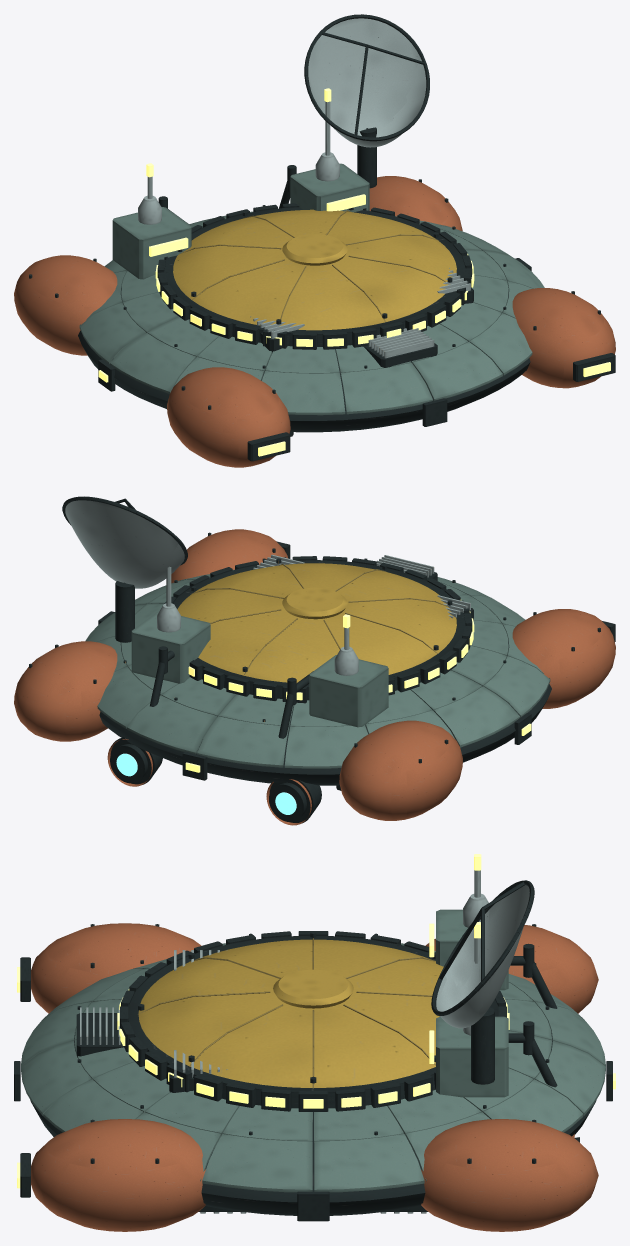
3 views of the same model, one above another, from view 1: azimuth 30°, elevation 25°; view 2: azimuth 150°, elevation 25°; view 3: azimuth 270°, elevation 25° (orthographic). The views are drawn at different scales.
Parts seen in each view (by area): view 1: Systems, HullPlates, Pods, ScienceDish, WindowFrames, PressureHull, Windows; view 2: Systems, HullPlates, Pods, WindowFrames, ScienceDish, PressureHull, DriveAssemblies, Windows; view 3: Systems, HullPlates, Pods, WindowFrames, ScienceDish, PressureHull, Windows.
Boxes of the visible parts, left/top/right/bottom form: Systems: left=112, top=101, right=473, bottom=436; HullPlates: left=79, top=211, right=544, bottom=415; Pods: left=14, top=176, right=615, bottom=467; ScienceDish: left=304, top=14, right=429, bottom=147; WindowFrames: left=98, top=203, right=615, bottom=461; PressureHull: left=78, top=284, right=530, bottom=432; Windows: left=98, top=194, right=610, bottom=456; Systems: left=115, top=554, right=473, bottom=790; HullPlates: left=85, top=569, right=550, bottom=768; Pods: left=14, top=529, right=615, bottom=820; WindowFrames: left=98, top=541, right=615, bottom=780; ScienceDish: left=62, top=496, right=187, bottom=588; PressureHull: left=99, top=640, right=551, bottom=785; DriveAssemblies: left=107, top=737, right=321, bottom=825; Windows: left=185, top=599, right=531, bottom=772; Systems: left=76, top=870, right=557, bottom=1213; HullPlates: left=21, top=943, right=605, bottom=1192; Pods: left=31, top=923, right=598, bottom=1231; WindowFrames: left=14, top=931, right=612, bottom=1221; ScienceDish: left=431, top=880, right=534, bottom=1028; PressureHull: left=30, top=1032, right=596, bottom=1215; Windows: left=17, top=923, right=615, bottom=1188.
Bounding box in the file's own units: 2.8 × 1.81 × 2.8.
Materials: 1 (1 with a texture image).
